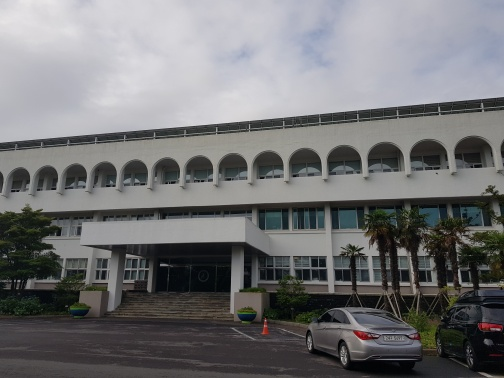Main Building of University: (6, 109, 504, 295), (67, 213, 275, 338), (251, 134, 501, 183), (30, 155, 249, 193)
